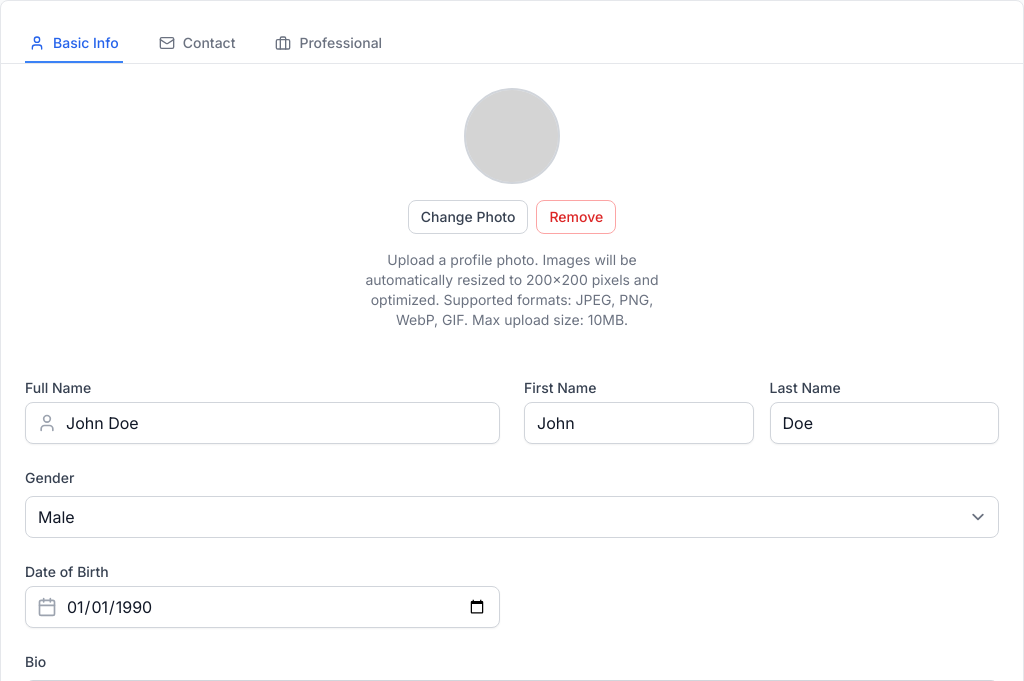
Test: ProfileForm › displays social links in contact section
# Switch to contact section
Click the button "Contact": (197, 44) x1=155 y1=25 x2=240 y2=63
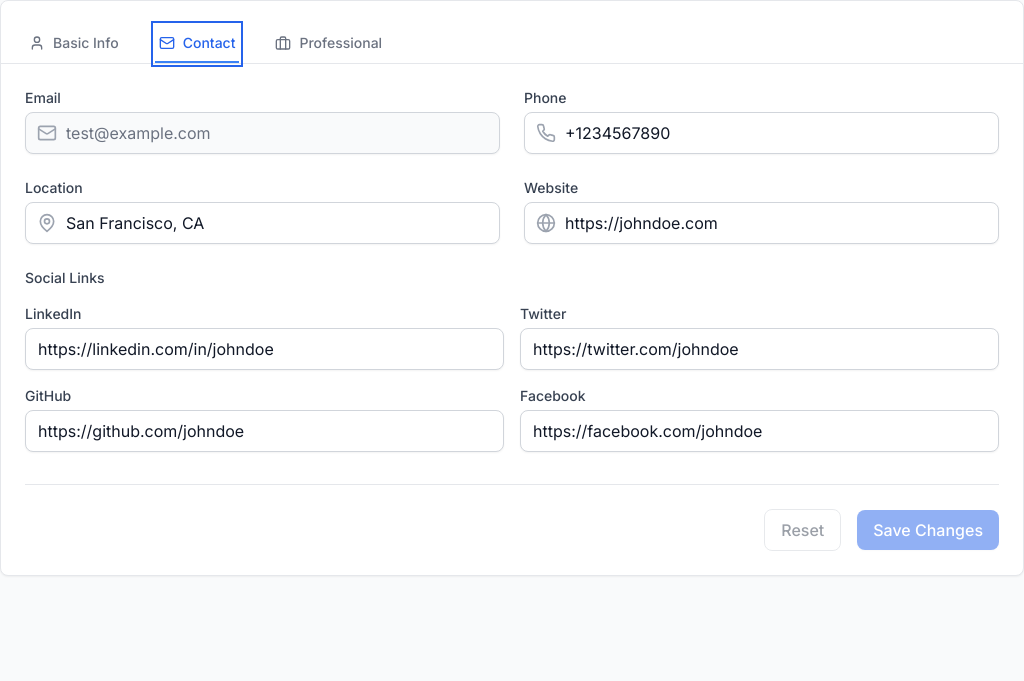
Result: the field showing "https://linkedin.com/in/johndoe" is shown at x1=25 y1=328 x2=504 y2=370
Result: the field showing "https://twitter.com/johndoe" is shown at x1=520 y1=328 x2=999 y2=370
Result: the field showing "https://github.com/johndoe" is shown at x1=25 y1=410 x2=504 y2=452
